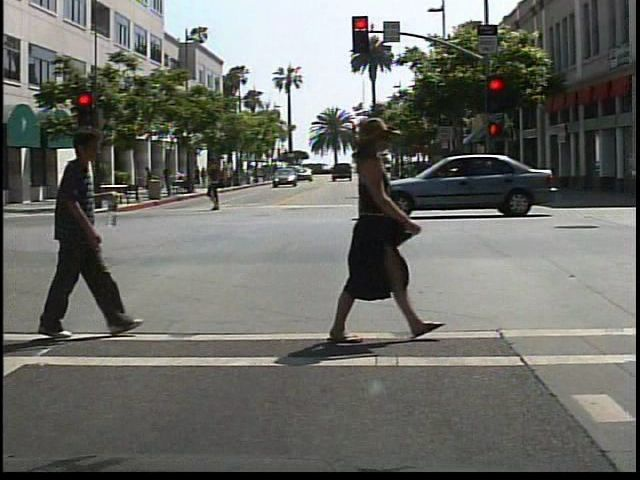person: (309, 122, 434, 350), (33, 129, 124, 343), (204, 155, 231, 213), (142, 164, 163, 202)
